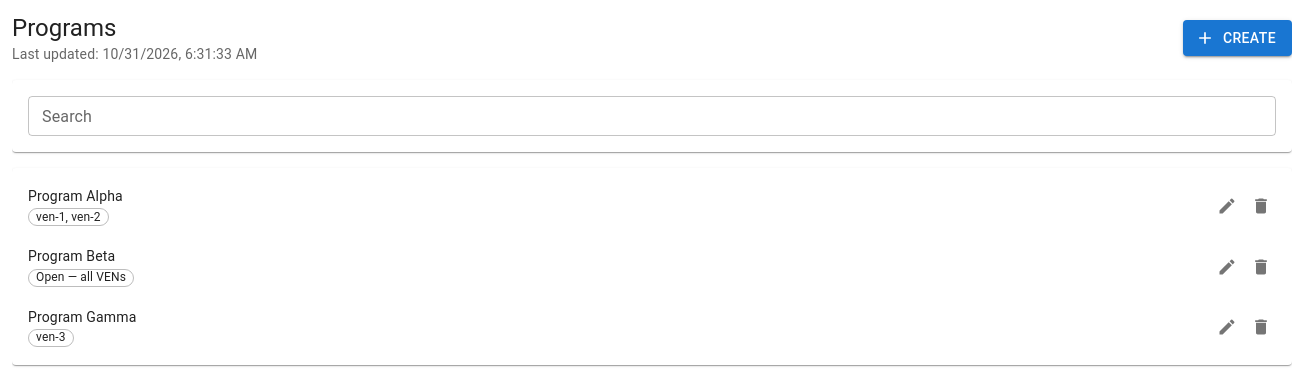
Test: ProgramsPage › filters programs by search query
Type "Alpha" into the field with test id "programs-search". click: (652, 116)
box: x1=28 y1=96 x2=1276 y2=136
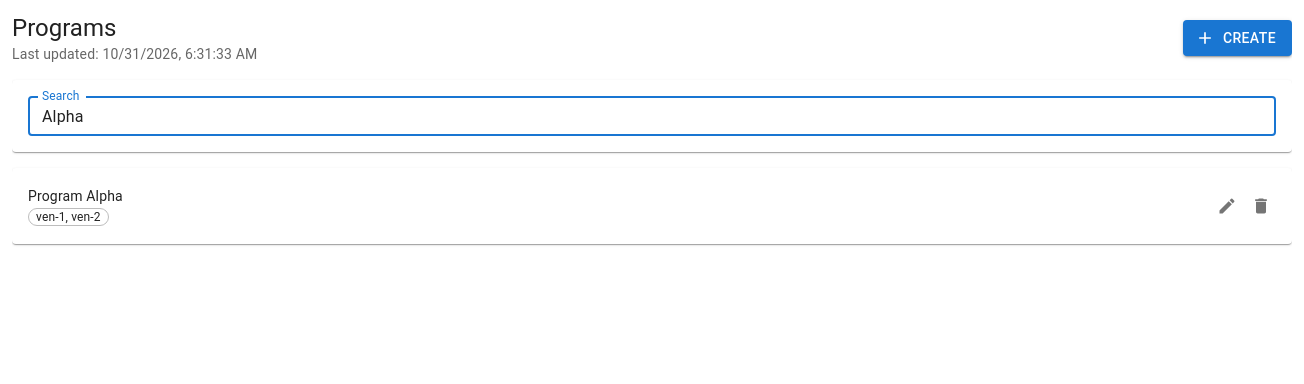
Expected: the list item with test id "program-item-p1" is shown, x1=12 y1=176 x2=1292 y2=236
Now the list item with test id "program-item-p2" is gone
Now the list item with test id "program-item-p3" is gone
